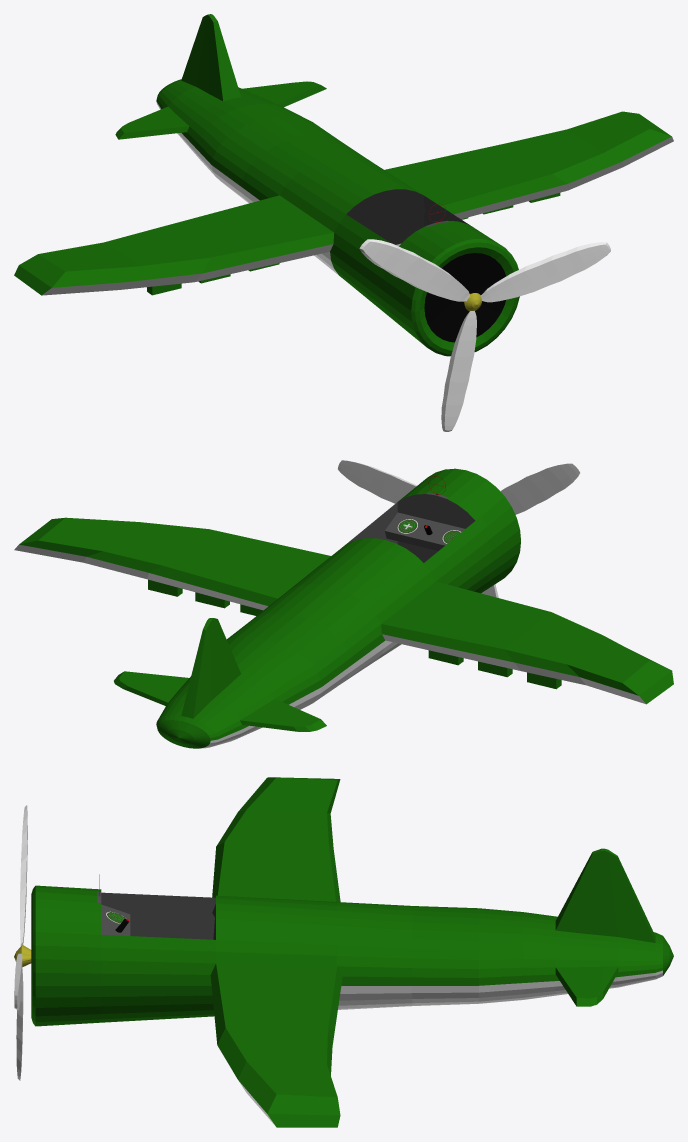
Rendered from hikouki2.fbx.
3 views of the same model, one above another, from view 1: azimuth 30°, elevation 25°; view 2: azimuth 150°, elevation 25°; view 3: azimuth 270°, elevation 25° (orthographic). The views are drawn at different scales.
Visible parts, largest first — view 1: Cylinder, Cylinder.005, Cylinder.004, Cylinder.001; view 2: Cylinder, Cylinder.005, Cylinder.004, Cylinder.001; view 3: Cylinder, Cylinder.004, Cylinder.005, Cylinder.001.
Part boxes in pixels (x1,y1,x2,y2): Cylinder: (115, 14, 519, 356); Cylinder.005: (14, 195, 334, 295); Cylinder.004: (385, 111, 673, 219); Cylinder.001: (359, 239, 610, 431); Cylinder: (114, 468, 520, 748); Cylinder.005: (381, 581, 673, 704); Cylinder.004: (14, 517, 330, 615); Cylinder.001: (338, 460, 579, 597); Cylinder: (31, 848, 673, 1026); Cylinder.004: (210, 963, 342, 1127); Cylinder.005: (212, 777, 340, 902); Cylinder.001: (14, 805, 31, 1080).
Size of the model in its own units: 1151 by 381 by 936.
